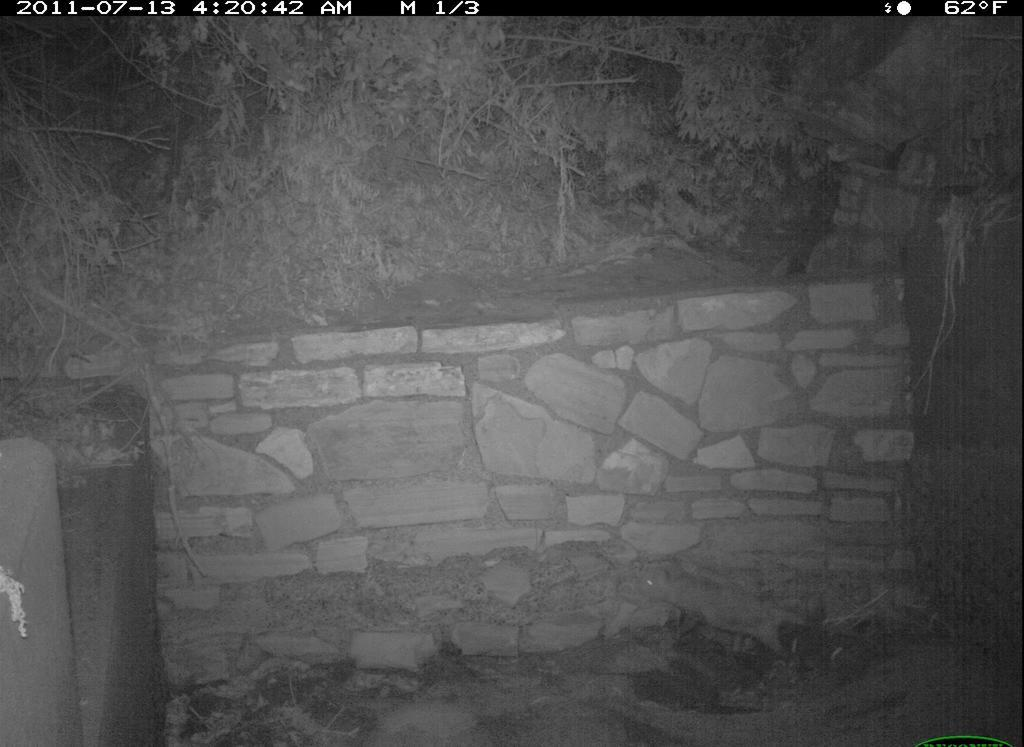opossum: (616, 551, 816, 666)
